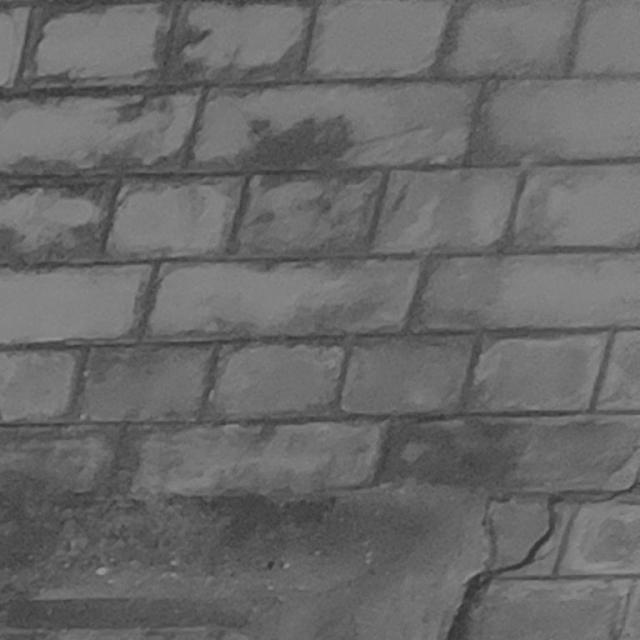crack: (448, 469, 640, 640)
